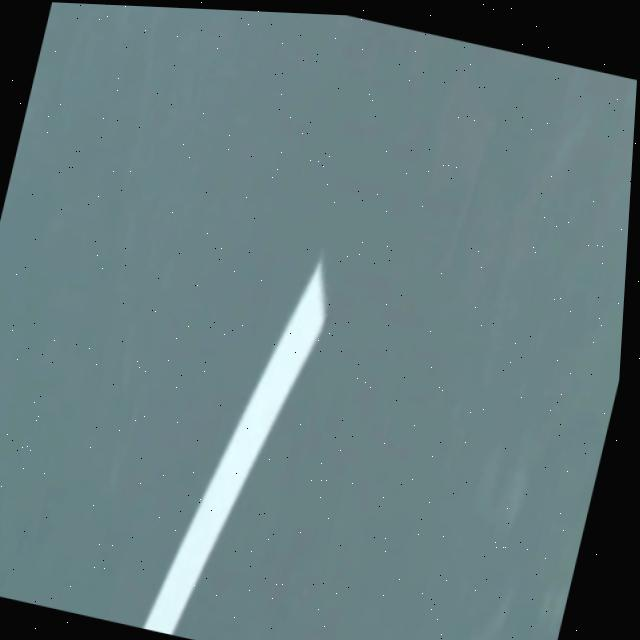center: (143, 260, 326, 635)
